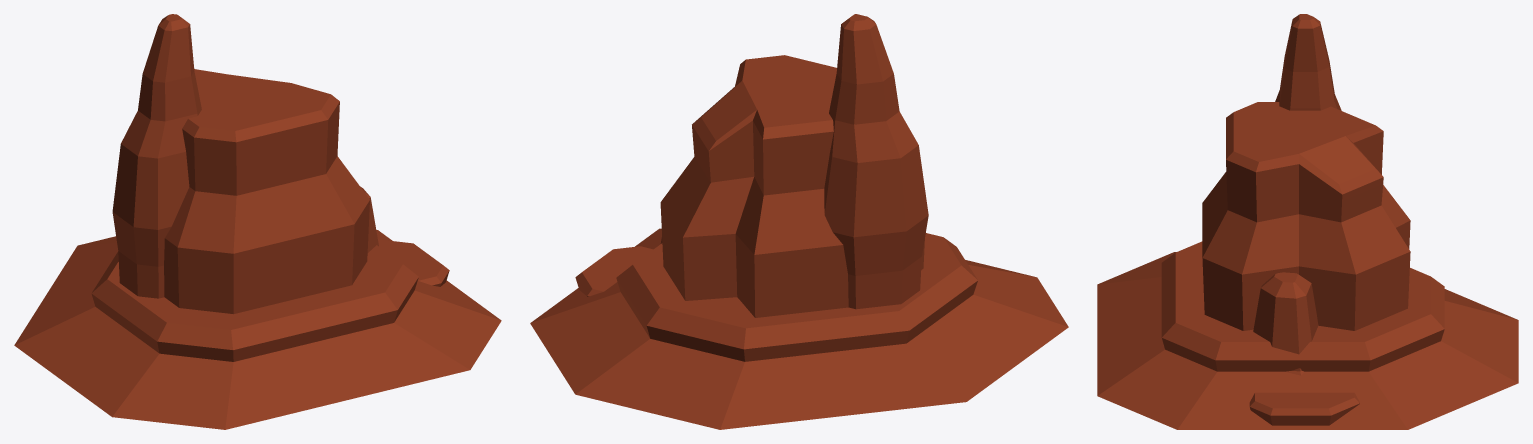
The model's file is Rock4_2.fbx.
The picture shows the model from 3 angles, left to right: view 1: azimuth 30°, elevation 25°; view 2: azimuth 150°, elevation 25°; view 3: azimuth 270°, elevation 25°; orthographic projection. The views are drawn at different scales.
Visible parts, largest first — view 1: Plane.001; view 2: Plane.001; view 3: Plane.001.
Boxes of the visible parts, x1,y1,x2,y2 form: Plane.001: (14, 14, 501, 429); Plane.001: (530, 14, 1068, 429); Plane.001: (1097, 14, 1518, 429).
Bounding box in the file's own units: 4698 × 3657 × 4698.
